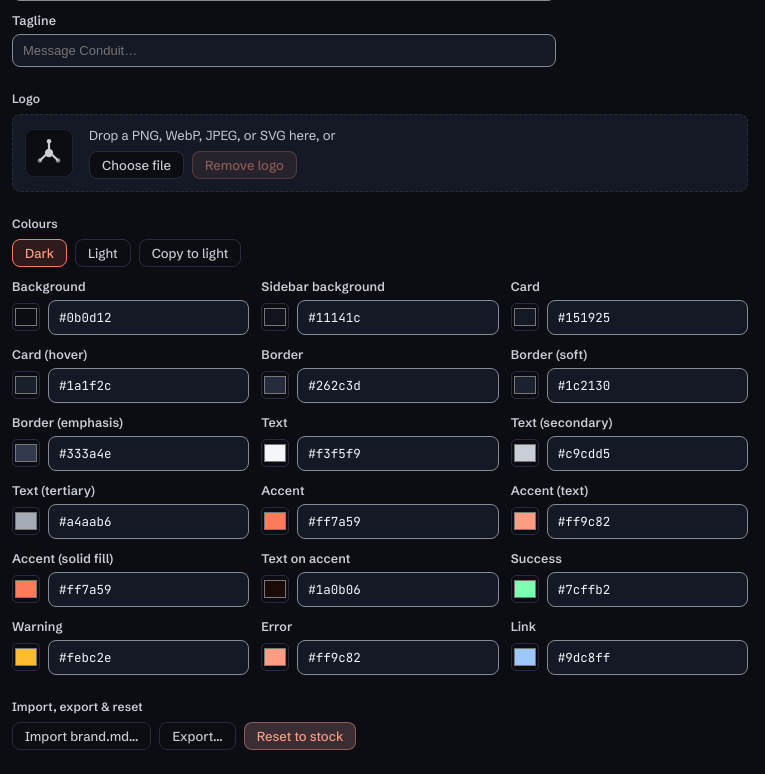
Test: Import/Export cancellation (ADR 008) › a genuine import failure still surfaces the Rust message and does not read as a cancel
(page scrolled)
Click the button "Import brand.md…".
click(82, 736)  # box [12, 722, 151, 750]
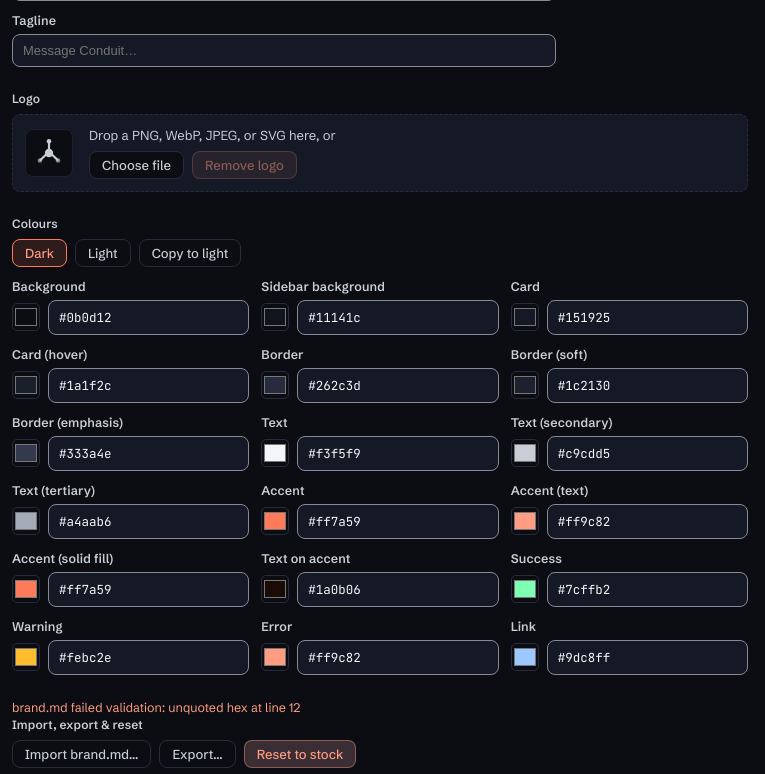
Check: the text "brand.md failed validation: unquoted hex at line 12" is shown, box [12, 700, 300, 714]
